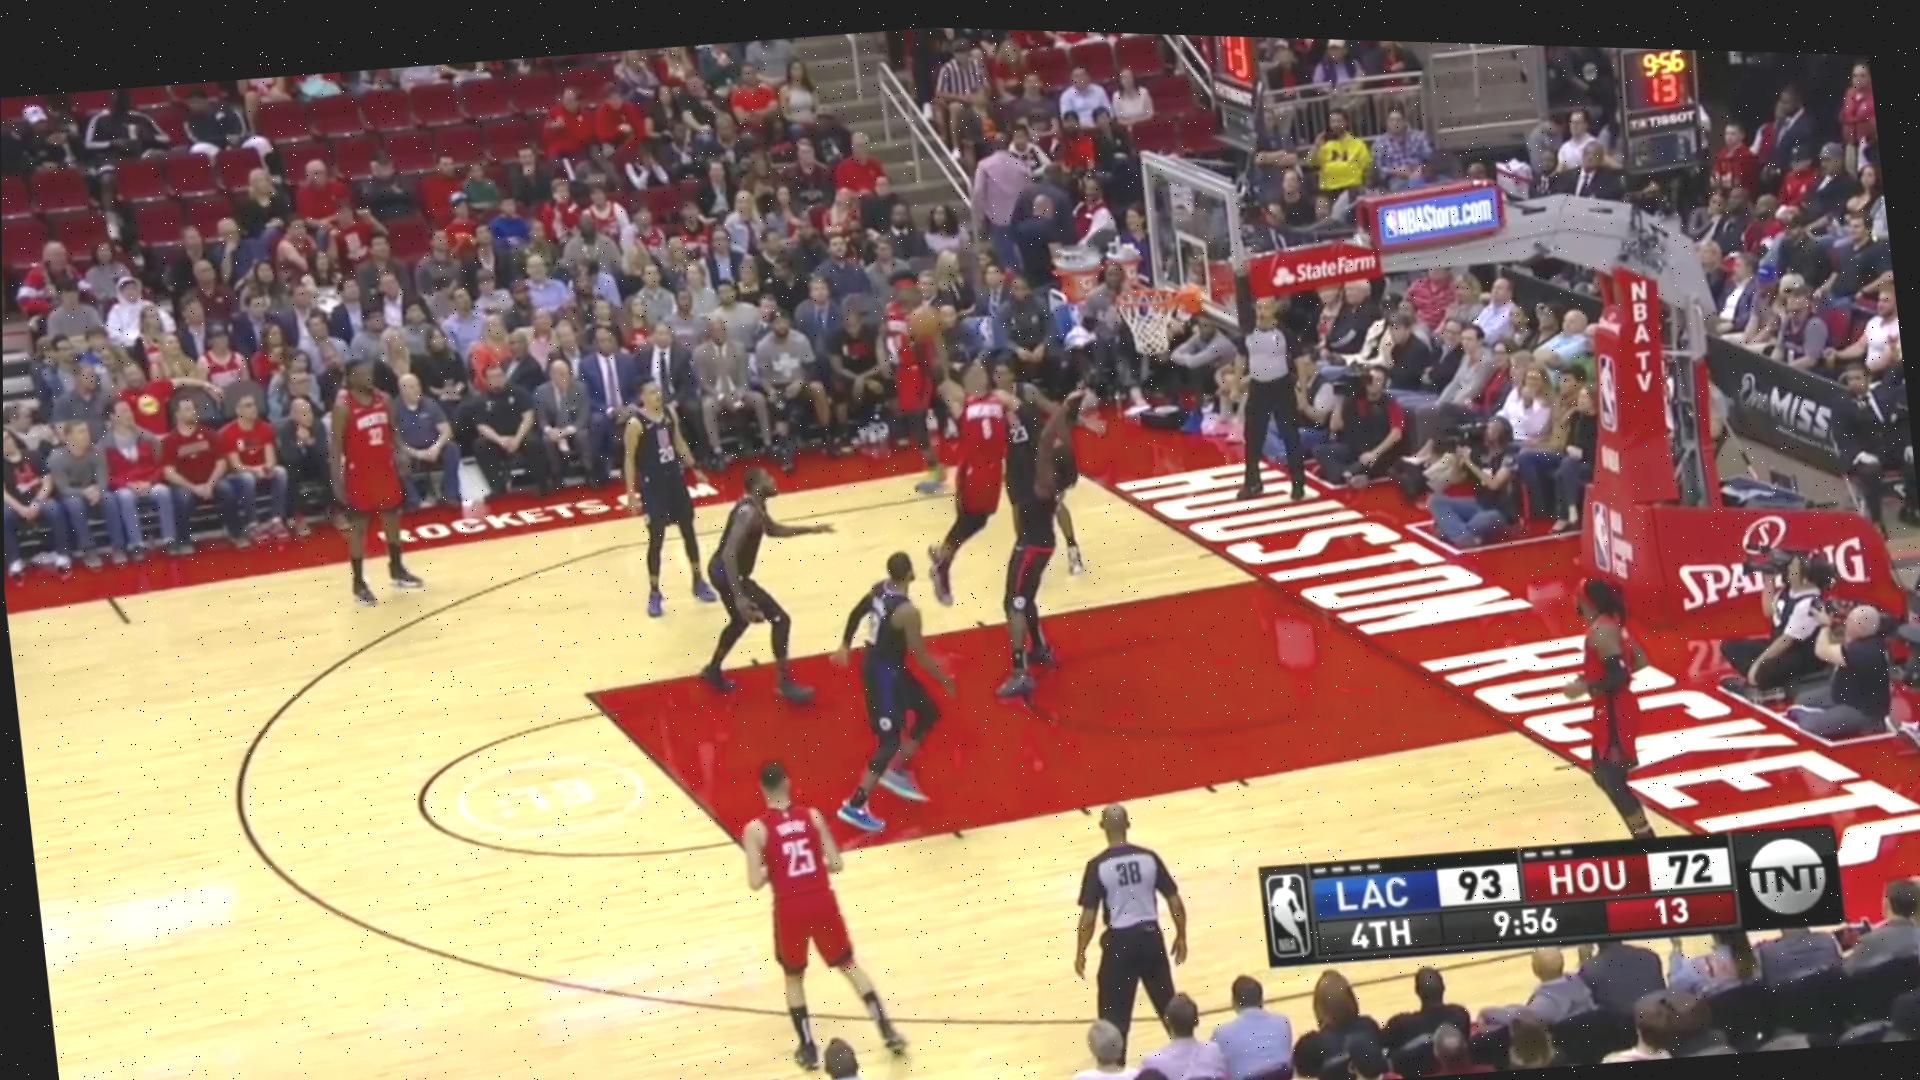no_foul: (938, 343, 1098, 702)
